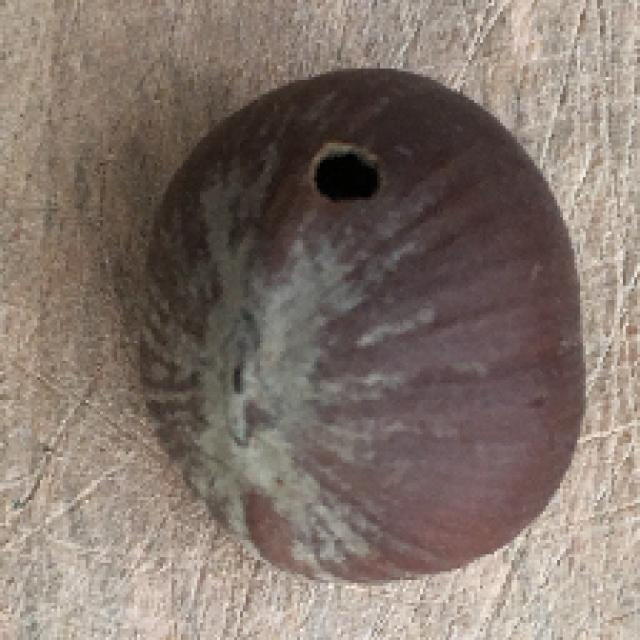damagedHazelnut: (149, 53, 579, 598)
